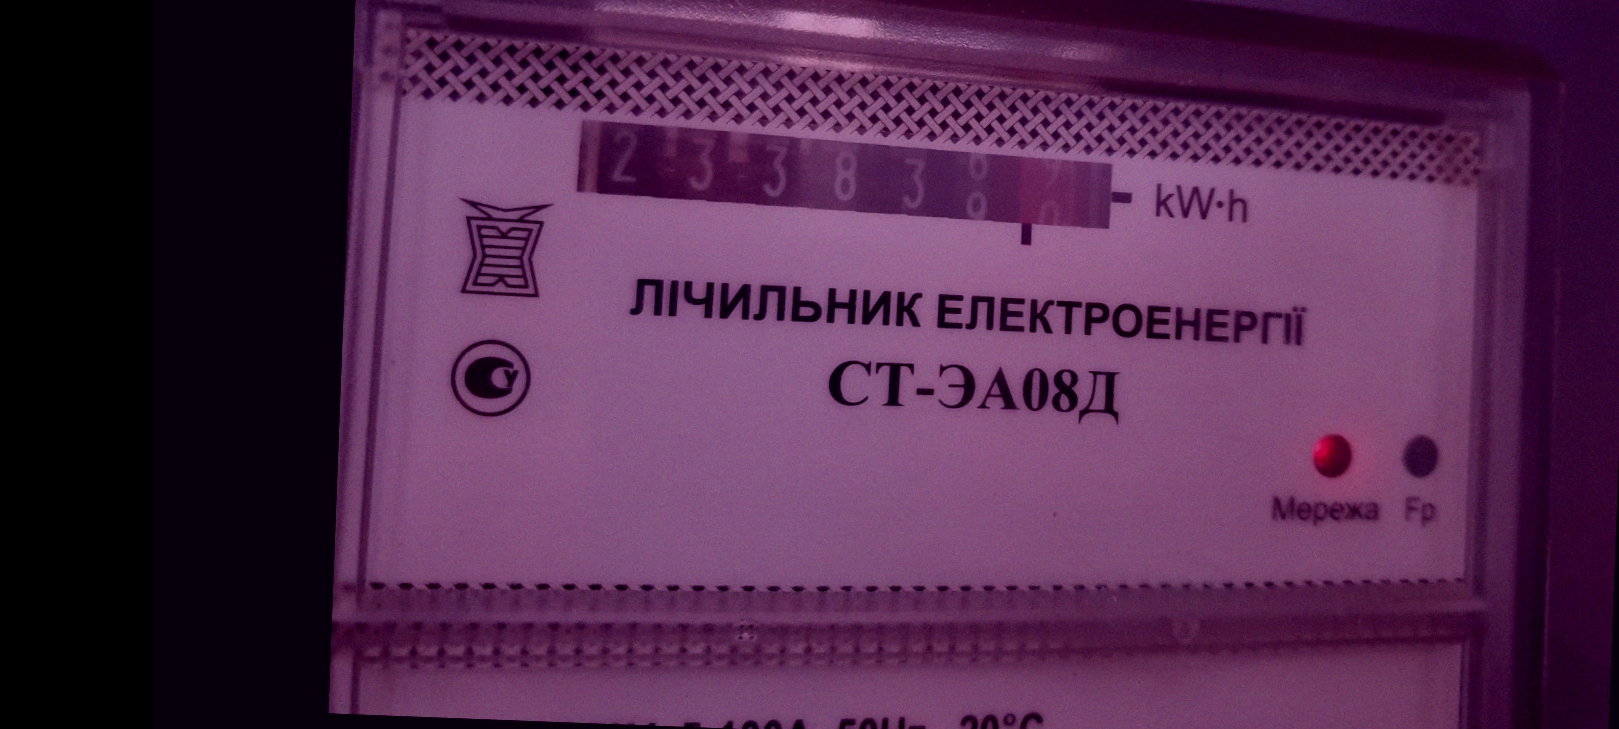0: (1036, 196, 1064, 231)
2: (605, 124, 646, 186)
3: (756, 137, 794, 202), (687, 133, 717, 192), (900, 152, 930, 210)
8: (828, 144, 864, 204), (966, 148, 993, 181)
9: (1036, 153, 1067, 192), (963, 187, 993, 224)
screen: (546, 96, 1144, 275)
